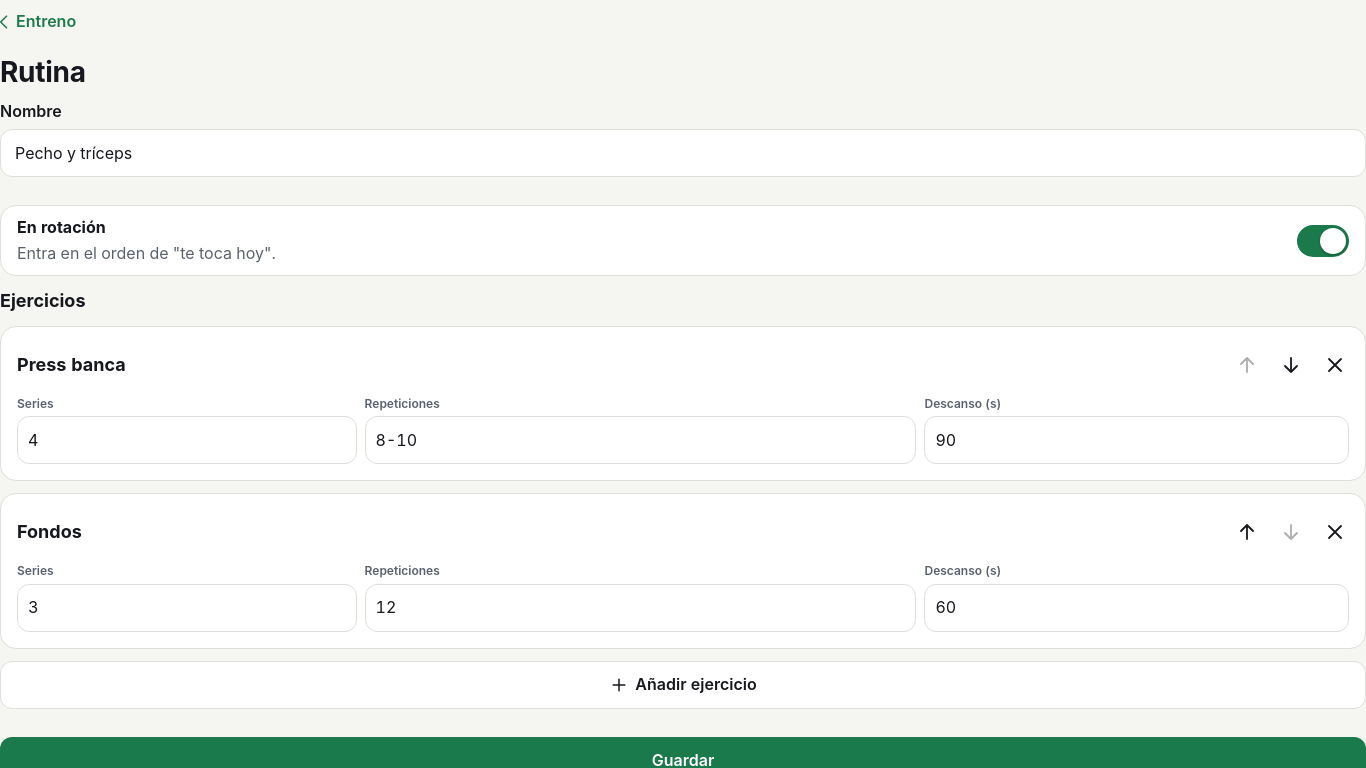
Editor de rutina: guardar › añade un ejercicio desde el selector, lo sube y guarda con las position correctas
expect the field labelled "Nombre" is shown: met, box [0,129,1365,177]
Click the button "Añadir ejercicio" at (683, 685), box [0,661,1365,709]
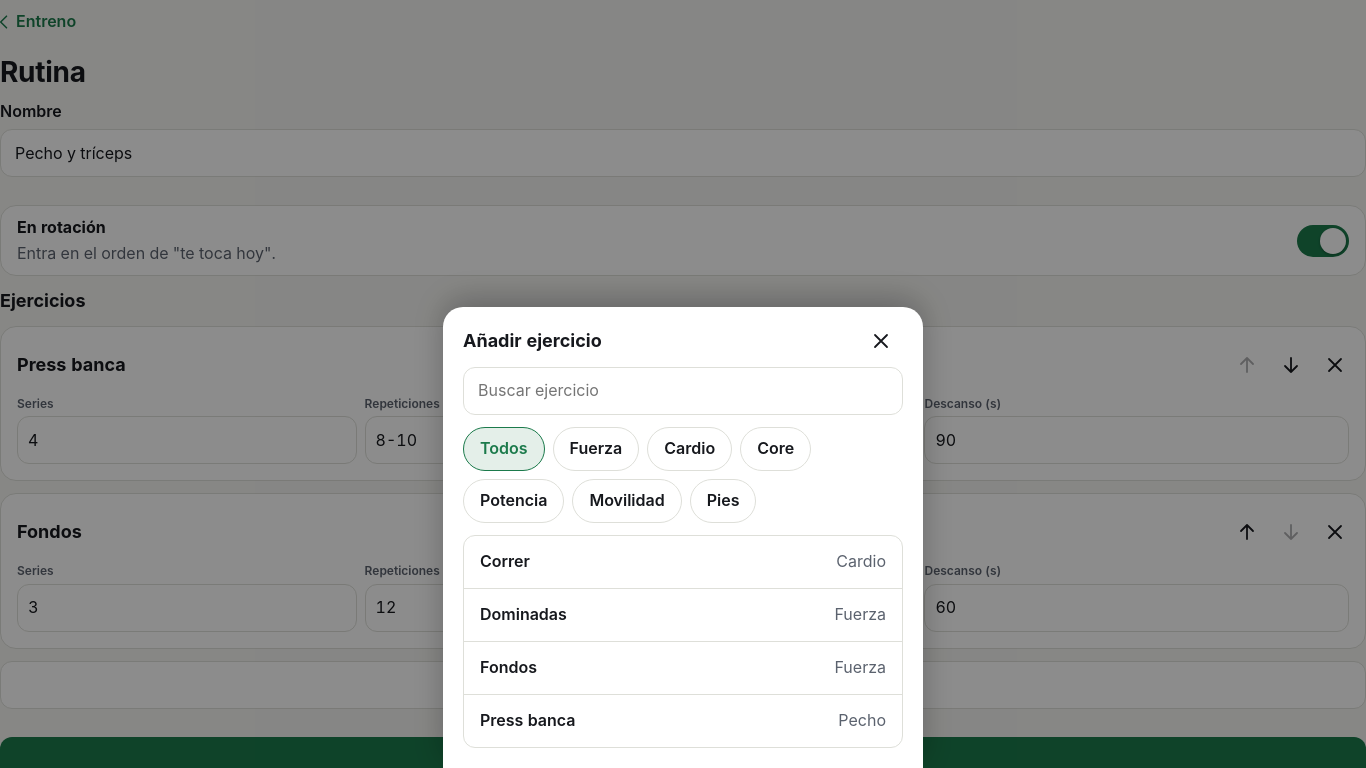
Click the button "Dominadas Fuerza" at (523, 614), box [464,589,902,641]
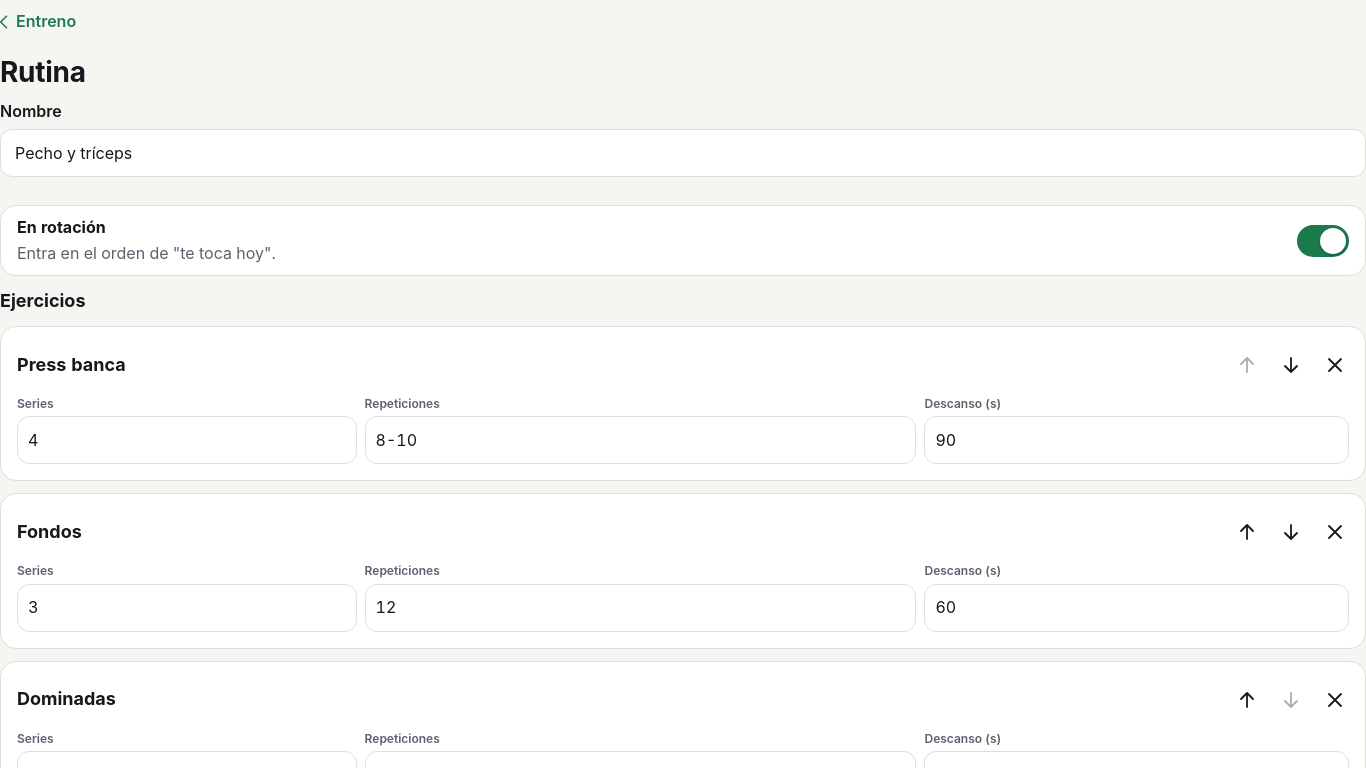
expect the dialog is gone: met
Click the button named "Subir Dominadas" at (1247, 700), box [1225,678,1269,722]
(page scrolled)
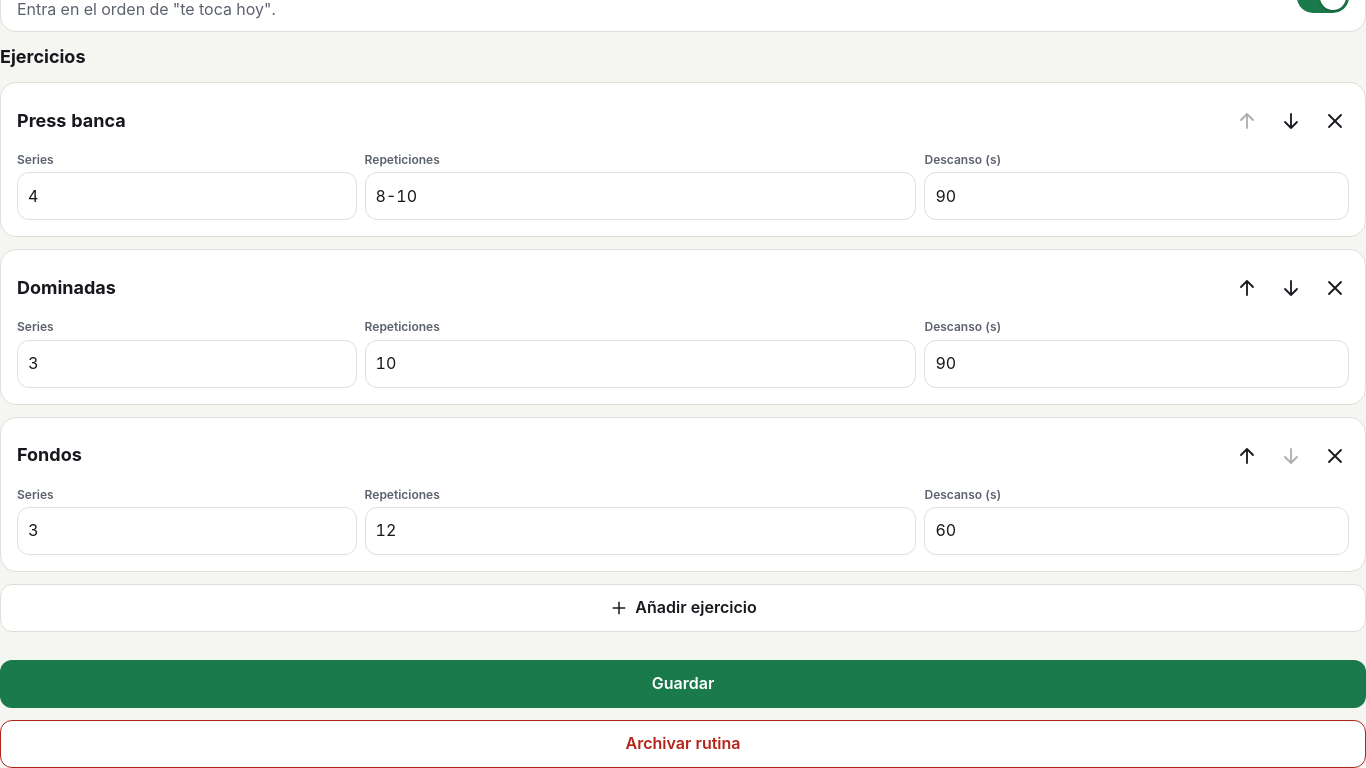
Click the button "Guardar" at (683, 684), box [0,660,1365,708]
(page scrolled)
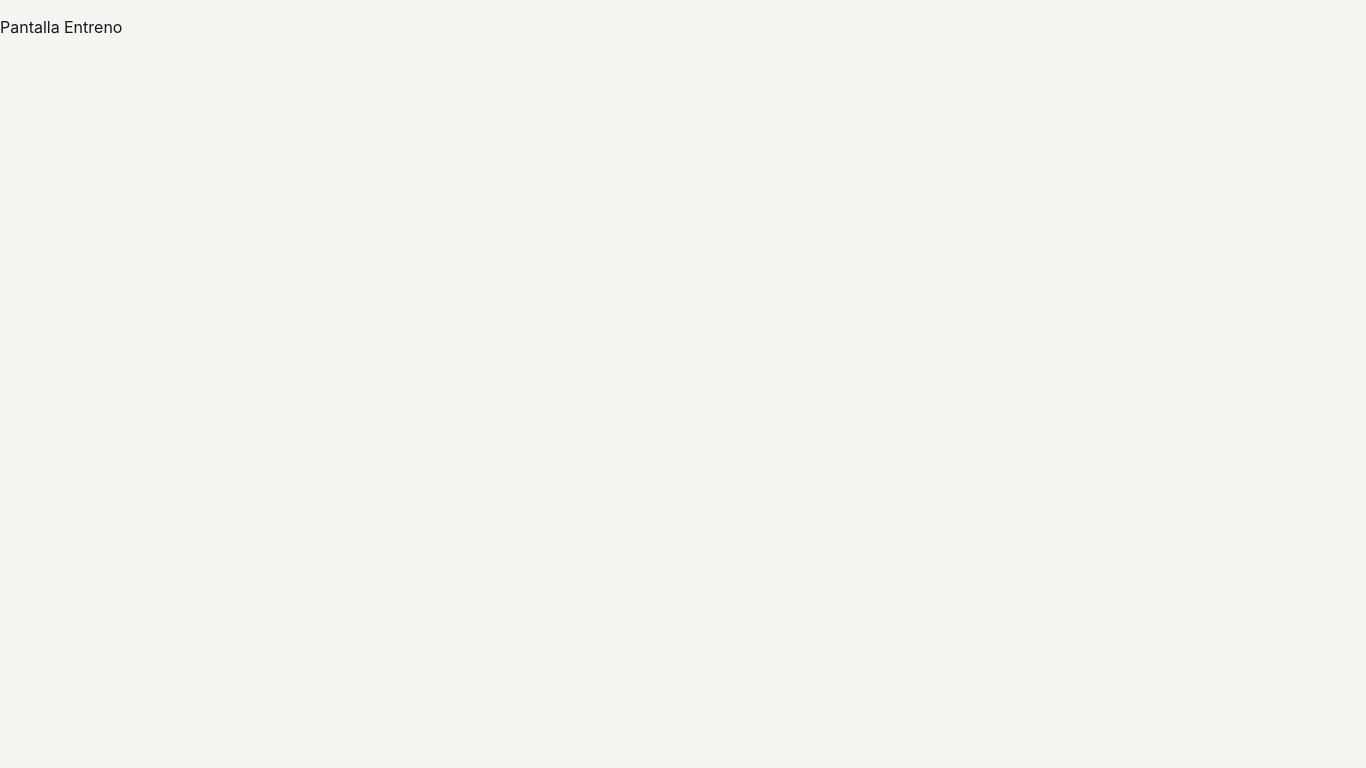
expect the text "Pantalla Entreno" is shown: met, box [0,17,122,37]
